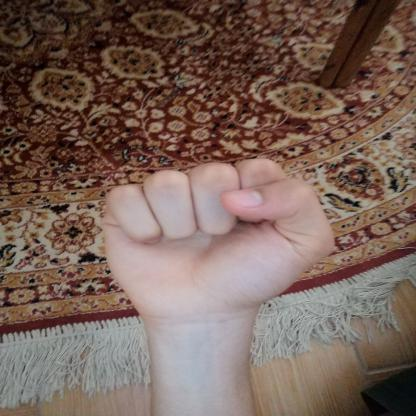SAD: (74, 144, 357, 338)
